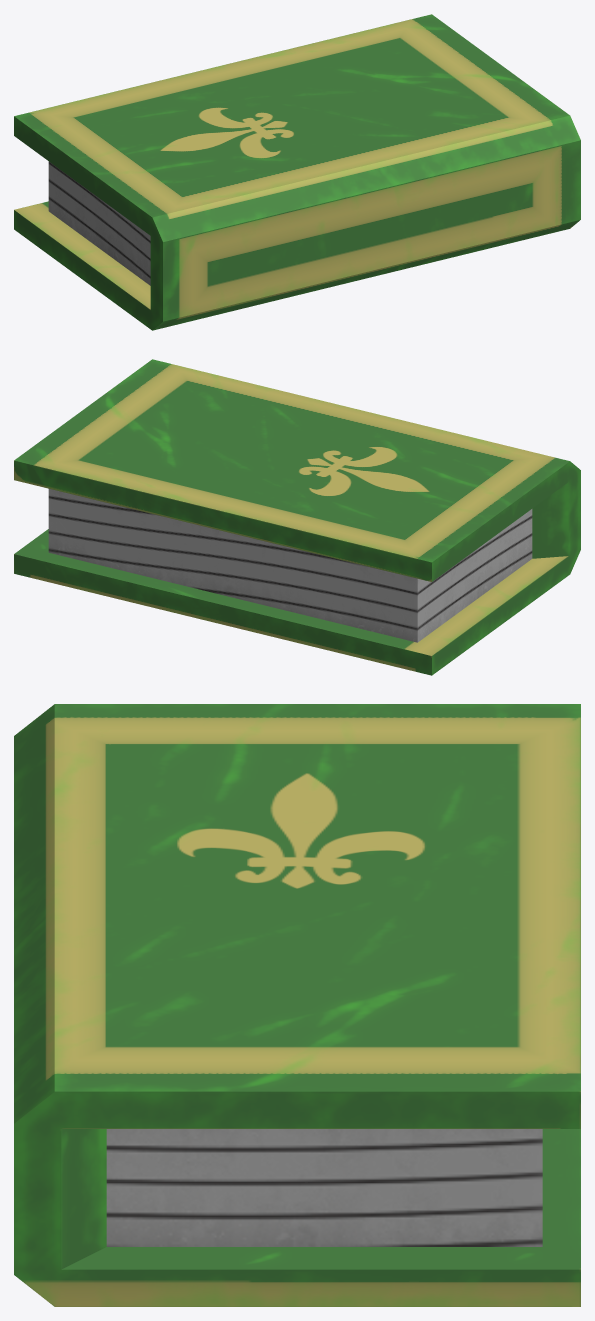
The model's file is book_green.fbx.
3 views of the same model, one above another, from view 1: azimuth 30°, elevation 25°; view 2: azimuth 150°, elevation 25°; view 3: azimuth 270°, elevation 25° (orthographic). The views are drawn at different scales.
Visible parts, largest first — view 1: Cube.010; view 2: Cube.010; view 3: Cube.010.
Boxes of the visible parts, x1,y1,x2,y2 form: Cube.010: [14, 14, 580, 330]; Cube.010: [14, 359, 580, 675]; Cube.010: [14, 704, 580, 1306].
Bounding box in the file's own units: 324 × 83.77 × 200.
